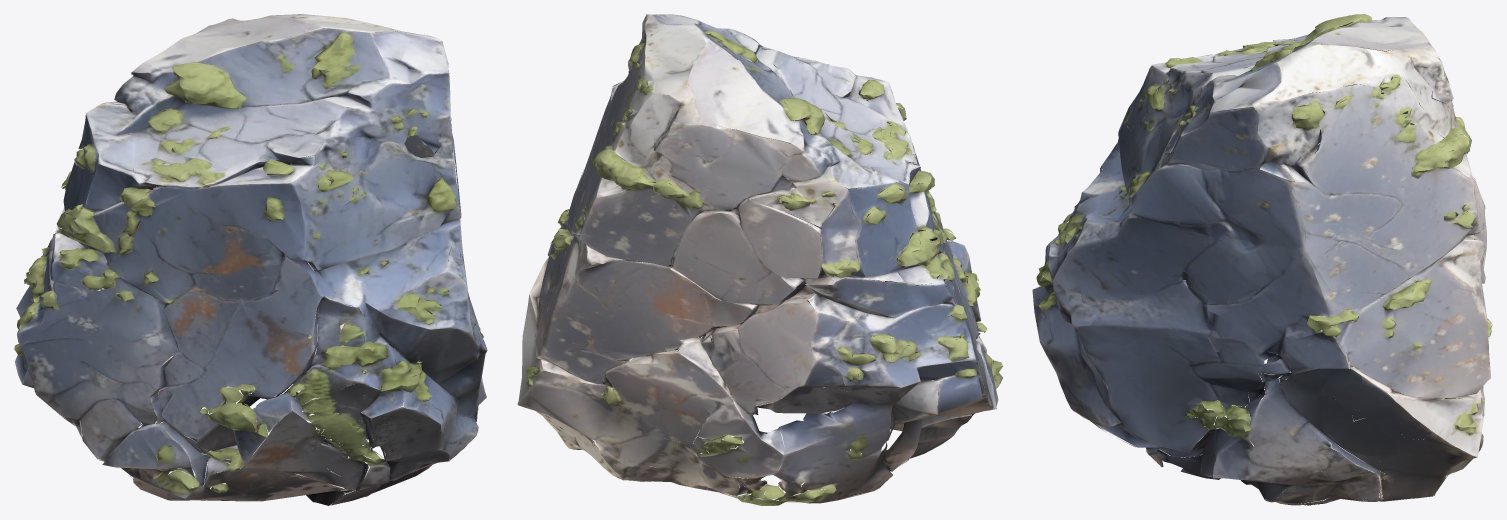
The model's file is roca_grande1.glb.
3 renders of one model, left to right at view 1: azimuth 30°, elevation 25°; view 2: azimuth 150°, elevation 25°; view 3: azimuth 270°, elevation 25°, orthographic. The views are drawn at different scales.
Visible parts, largest first — view 1: geometry_0; view 2: geometry_0; view 3: geometry_0.
Part boxes in pixels (bbox=[...]): geometry_0: bbox=[14, 14, 487, 505]; geometry_0: bbox=[517, 14, 1002, 505]; geometry_0: bbox=[1032, 14, 1492, 505].
Size of the model in its own units: 3.41 by 3 by 3.01.
Materials: 1 (1 with a texture image).
